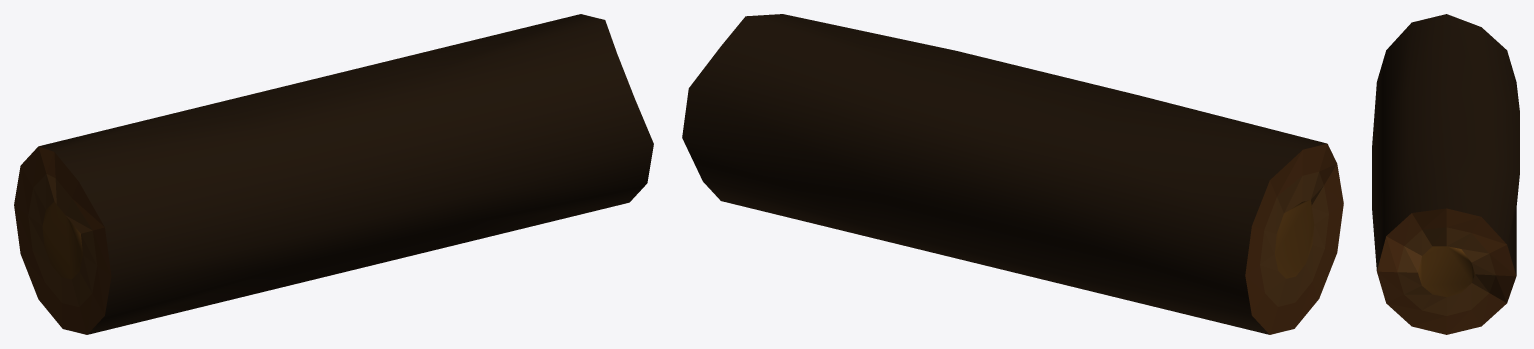
The model's file is Rondin.FBX.
3 views of the same model, side by side, from view 1: azimuth 30°, elevation 25°; view 2: azimuth 150°, elevation 25°; view 3: azimuth 270°, elevation 25° (orthographic). The views are drawn at different scales.
Visible parts, largest first — view 1: Cylinder001; view 2: Cylinder001; view 3: Cylinder001.
Boxes of the visible parts, x1,y1,x2,y2 form: Cylinder001: [14, 14, 653, 334]; Cylinder001: [682, 14, 1343, 334]; Cylinder001: [1372, 14, 1519, 334].
Bounding box in the file's own units: 46.85 × 14.2 × 14.82.
